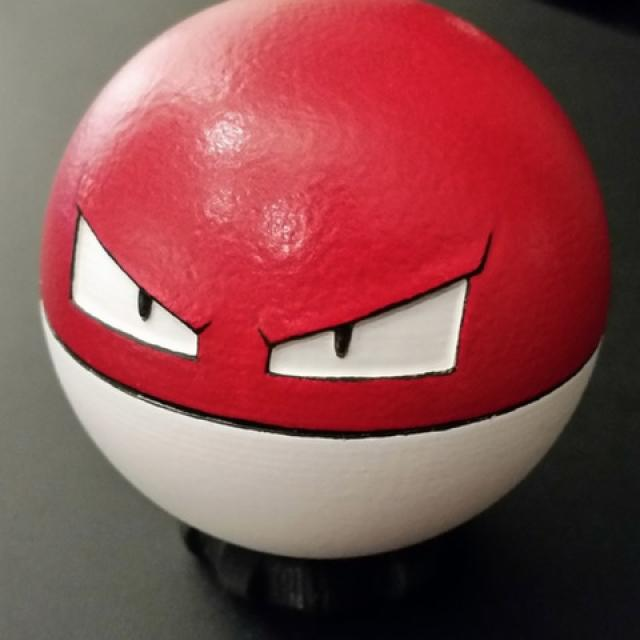Voltorb: (36, 0, 612, 559)
